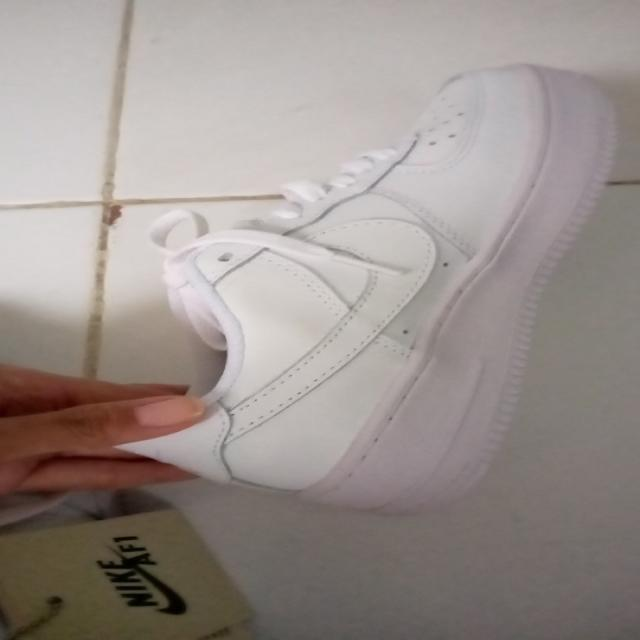nike fake air force: (106, 56, 636, 516)
